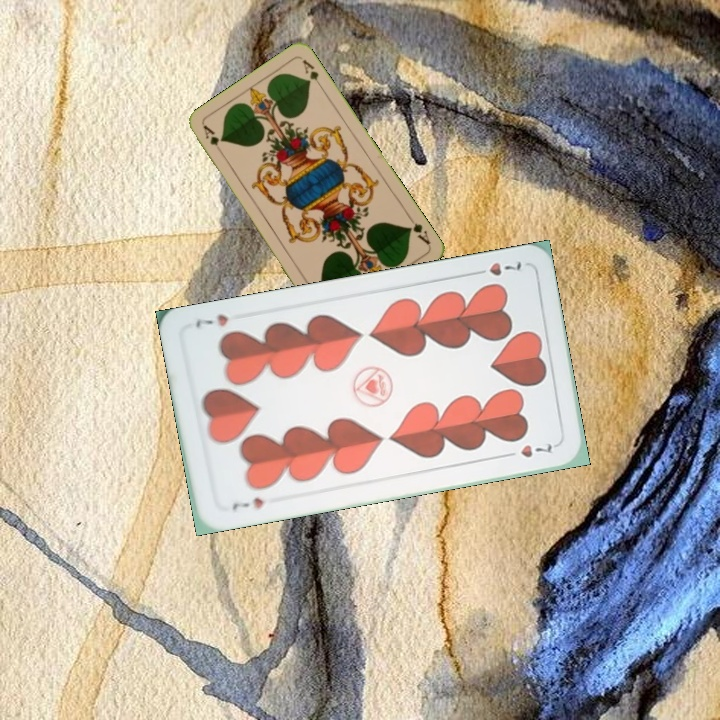GA: (403, 211, 432, 247), (199, 121, 222, 148)
H7: (468, 257, 526, 279), (228, 493, 266, 512)
